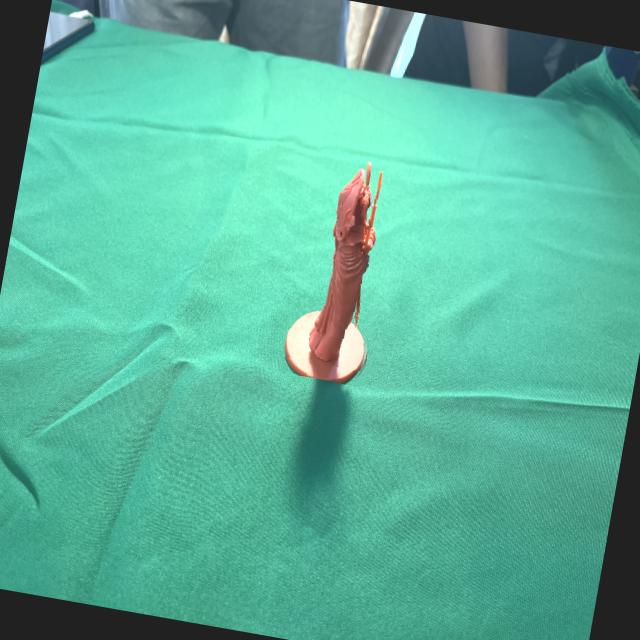amon: (278, 142, 406, 388)
